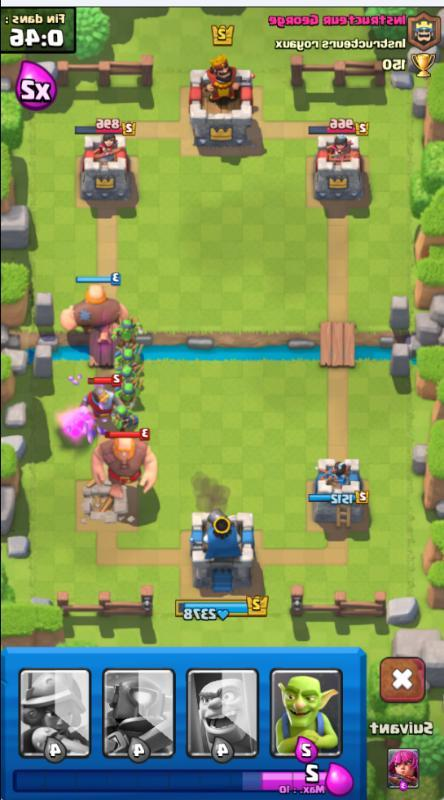enemy_giant: (88, 426, 161, 497)
enemy_knight: (78, 376, 120, 425)
player_giant: (57, 274, 130, 367)
player_spear_goblins: (108, 399, 145, 430), (112, 315, 143, 347), (110, 345, 146, 367), (114, 382, 145, 404), (115, 367, 142, 382)
